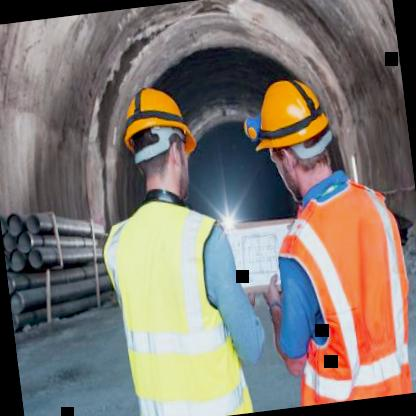helmet: (110, 74, 208, 216), (245, 66, 342, 206)
